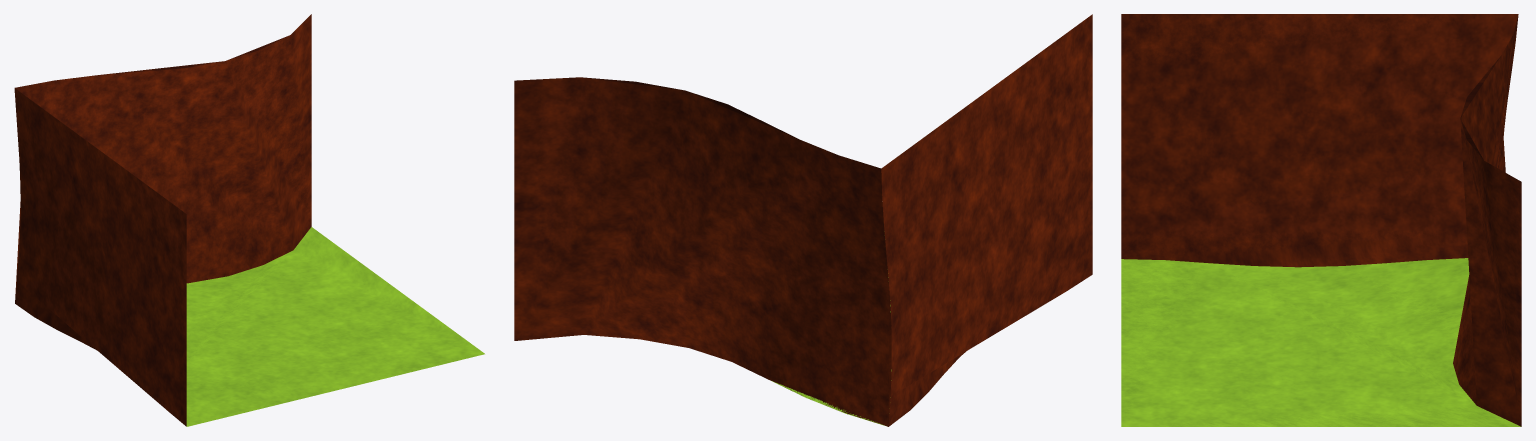
File: swamp_corner.glb
3 renders of one model, left to right at view 1: azimuth 30°, elevation 25°; view 2: azimuth 150°, elevation 25°; view 3: azimuth 270°, elevation 25°, orthographic. The views are drawn at different scales.
Parts seen in each view (by area): view 1: ground; view 2: ground; view 3: ground.
Part boxes in pixels (x1,y1,x2,y2): ground: [14, 14, 484, 426]; ground: [514, 14, 1092, 426]; ground: [1121, 14, 1521, 426].
Size of the model in its own units: 2 by 1.35 by 2.
Materials: 2 (2 with a texture image).
